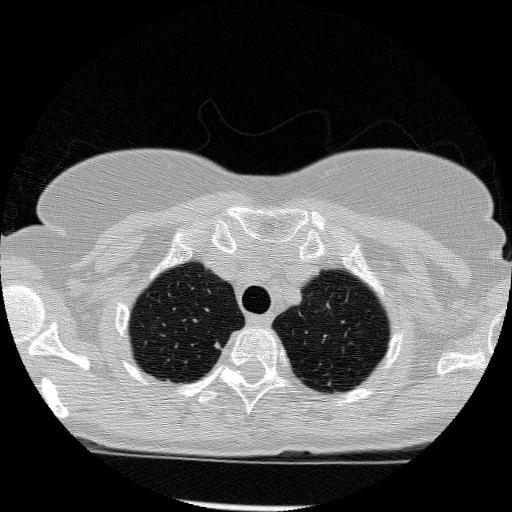nodule: (210, 339, 223, 352)
